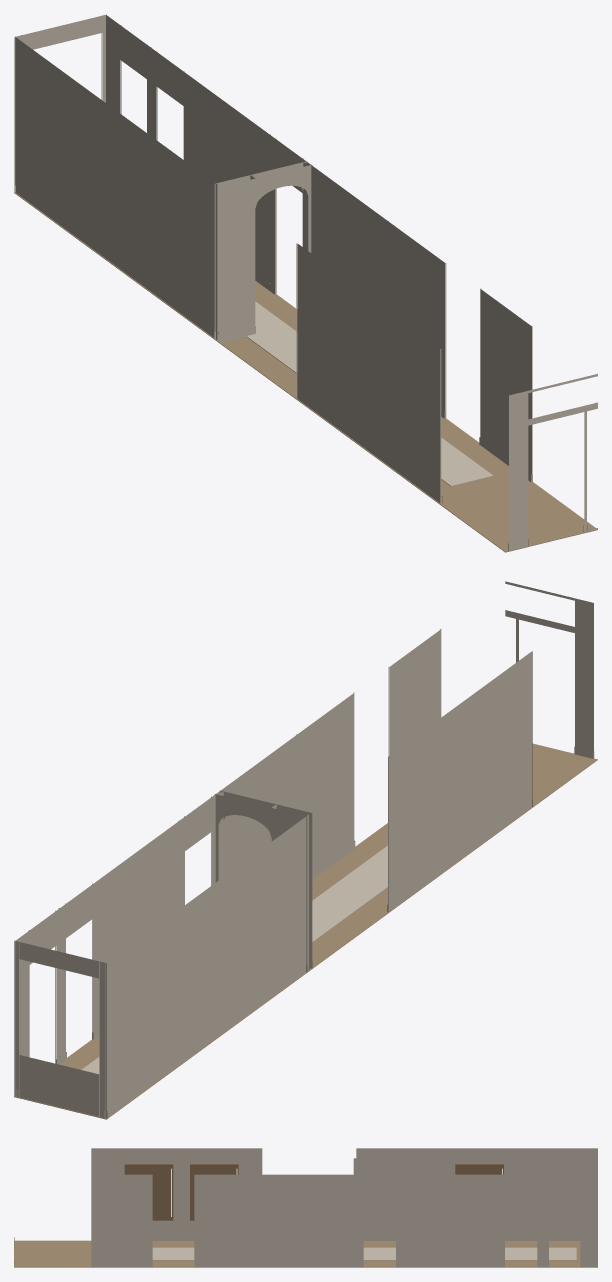
File: corridor-2.glb
3 views of the same model, one above another, from view 1: azimuth 30°, elevation 25°; view 2: azimuth 150°, elevation 25°; view 3: azimuth 270°, elevation 25° (orthographic). The views are drawn at different scales.
Visible parts, largest first — view 1: DESIGN | corridor removable wall finish, DESIGN | corridor floor finish, DESIGN | Quiet hall runner; view 2: DESIGN | corridor removable wall finish, DESIGN | corridor floor finish, DESIGN | Quiet hall runner; view 3: DESIGN | corridor removable wall finish, DESIGN | corridor floor finish, DESIGN | Quiet hall runner, DESIGN | Overlapping thin wall plane, DESIGN | Overlapping thin wall plane.001, DESIGN | Overlapping thin wall plane.002.
Part boxes in pixels (box(x1,y1,x2,y2)): DESIGN | corridor removable wall finish: box(14, 14, 597, 550); DESIGN | corridor floor finish: box(14, 192, 597, 552); DESIGN | Quiet hall runner: box(246, 301, 493, 486); DESIGN | corridor removable wall finish: box(14, 581, 594, 1118); DESIGN | corridor floor finish: box(14, 743, 597, 1119); DESIGN | Quiet hall runner: box(81, 845, 387, 1074); DESIGN | corridor removable wall finish: box(14, 1148, 597, 1267); DESIGN | corridor floor finish: box(14, 1240, 597, 1267); DESIGN | Quiet hall runner: box(152, 1247, 576, 1260); DESIGN | Overlapping thin wall plane: box(124, 1164, 173, 1220); DESIGN | Overlapping thin wall plane.001: box(190, 1164, 238, 1220); DESIGN | Overlapping thin wall plane.002: box(455, 1164, 503, 1174).
Size of the model in its own units: 1.7 by 2.74 by 15.63.
